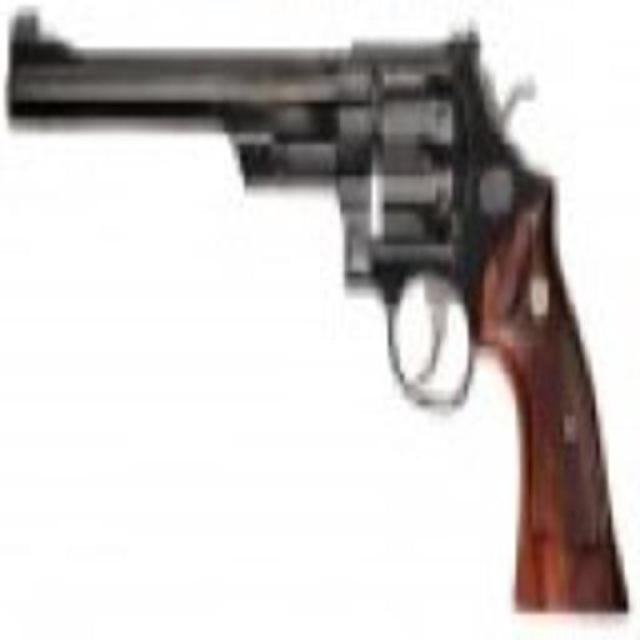pistol: (4, 5, 628, 612)
